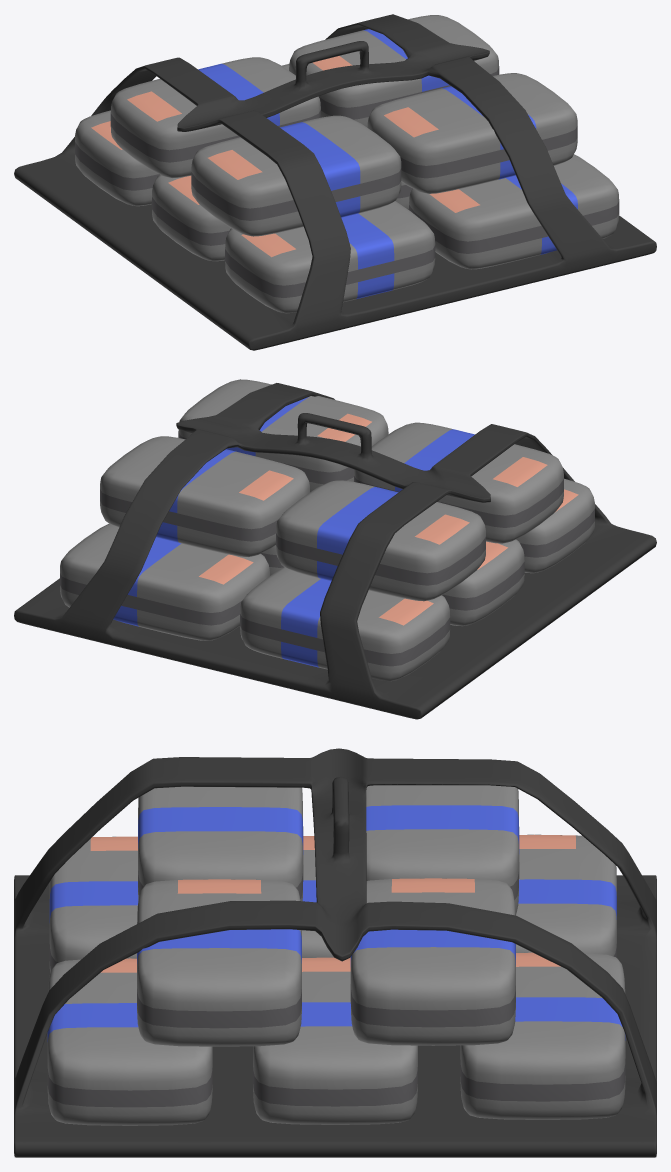
File: beton 1.fbx
3 renders of one model, top to bottom at view 1: azimuth 30°, elevation 25°; view 2: azimuth 150°, elevation 25°; view 3: azimuth 270°, elevation 25°, orthographic. The views are drawn at different scales.
Parts seen in each view (by area): view 1: Cube.001; view 2: Cube.001; view 3: Cube.001.
Part boxes in pixels (x1=…): Cube.001: x1=14, y1=14, x2=656, y2=350; Cube.001: x1=14, y1=379, x2=656, y2=719; Cube.001: x1=14, y1=748, x2=656, y2=1157.
Bounding box in the file's own units: 475 × 186 × 476.
